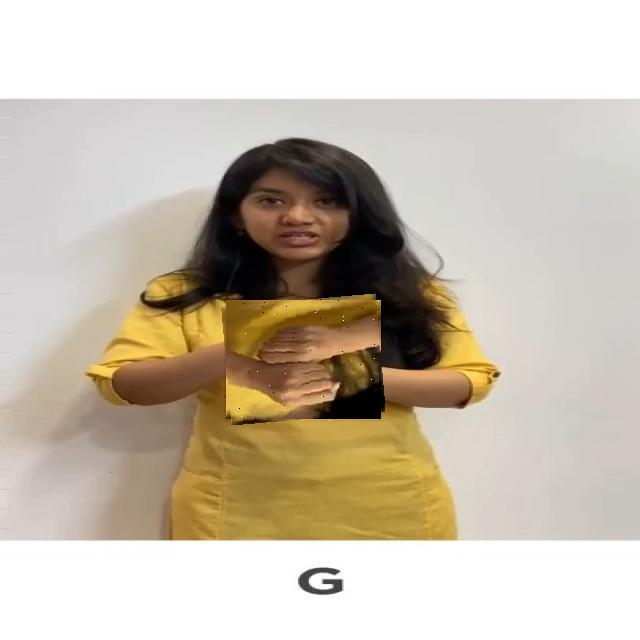G: (224, 297, 383, 422)
